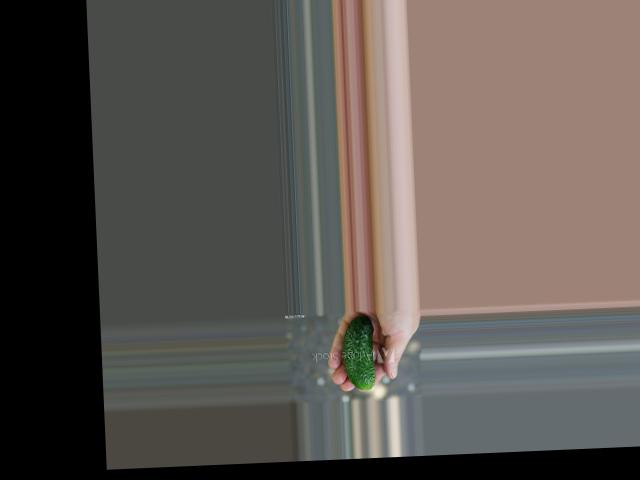cucumber: (340, 315, 375, 390)
